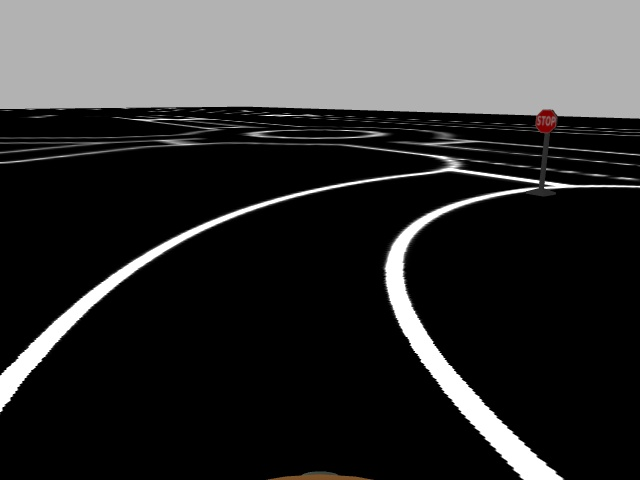stop: (534, 108, 558, 136)
